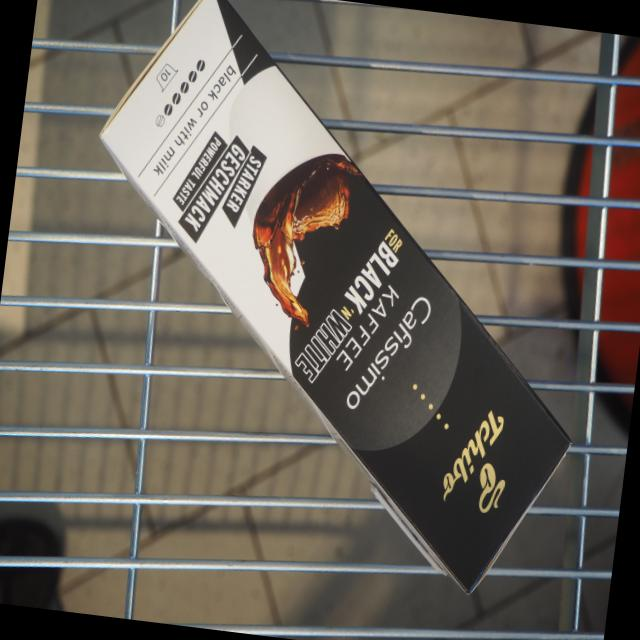Simo Kaffee BW: (88, 0, 577, 606)
